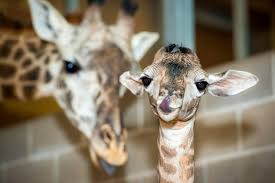Jirafa: (27, 15, 140, 161), (121, 32, 268, 138)
